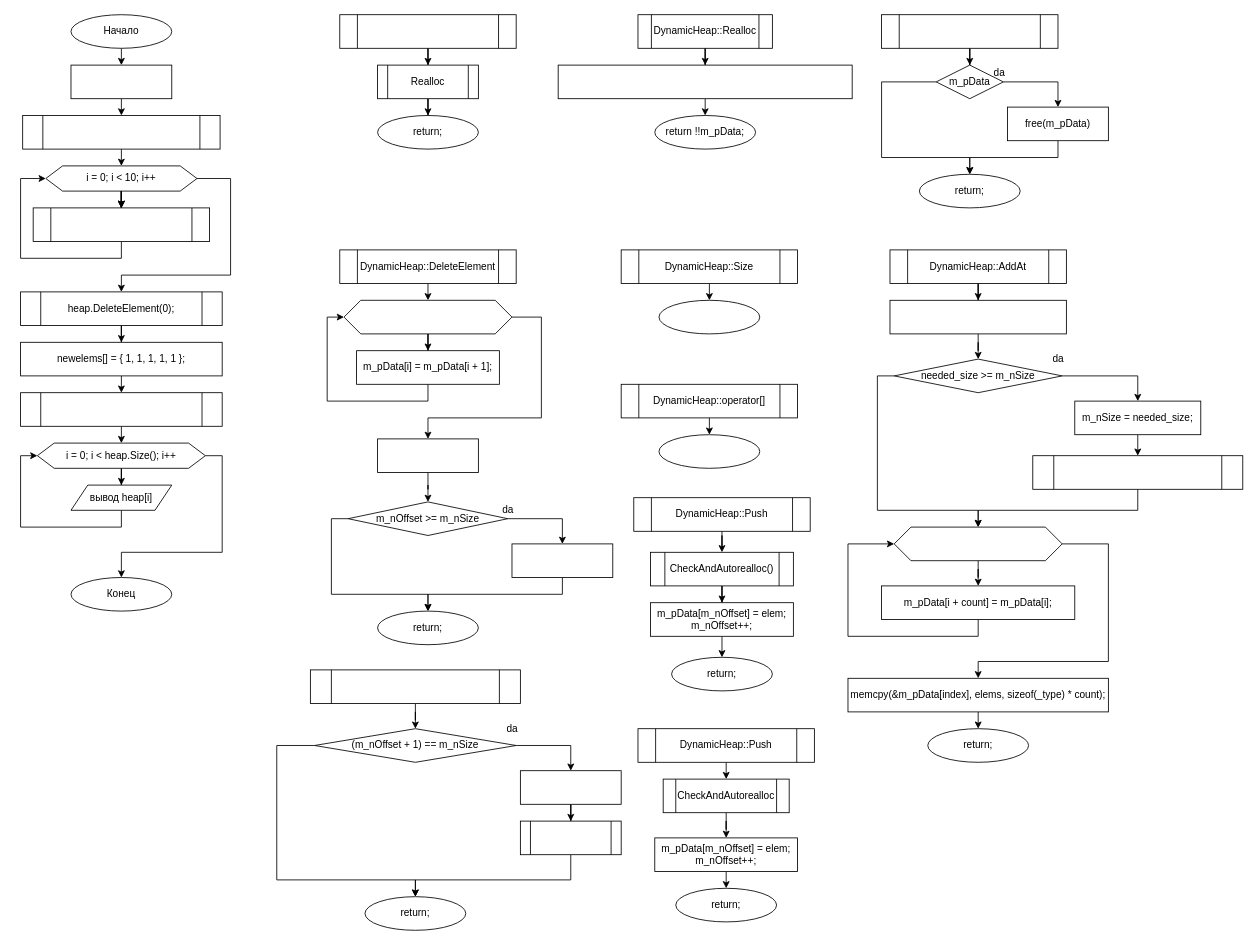
Image size: 1257x945. Some labels were removed from this diagram. Here are the shapes that lost their labels. From the top down, the centre of each, then its label:
point (427, 31): DynamicHeap::DynamicHeap
point (969, 31): DynamicHeap::~ DynamicHeap
point (121, 81): DynamicHeap heap; i
point (704, 81): m_pData = (_type *)realloc(m_pData, newsize * sizeof(_type));
point (121, 132): heap = DynamicHeap(10)
point (121, 224): heap.Push(i)
point (427, 316): i = index; i < m_nSize - 1; i++
point (709, 316): return m_nSize - 1;
point (977, 316): needed_size = m_nSize + count;
point (121, 409): heap.AddAt(10, newelems, 5);
point (427, 455): m_nSize--;
point (709, 451): return m_pData[ind];
point (1137, 472): DynamicHeap::Realloc(needed_size)
point (562, 560): m_nOffset--;
point (977, 543): i = Size() - count; i >= index; i--
point (415, 686): DynamicHeap:: CheckAndAutorealloc
point (570, 787): m_nSize++;
point (570, 837): Realloc(m_nSize);
